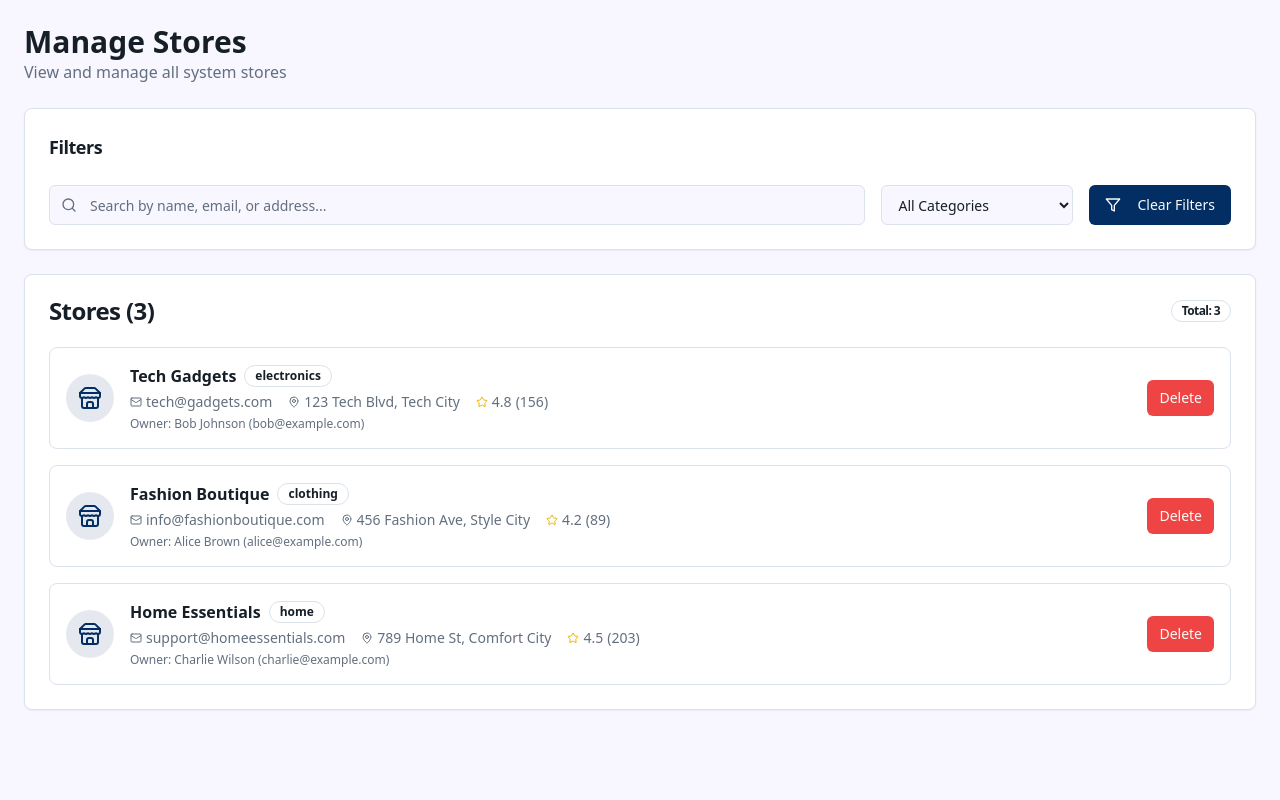
it: AdminStores › should show no results message when no stores match filters
Search for non-existent store
Type "NonExistentStore" into the field with placeholder "Search by name, email, or address...".
click(457, 205); type("NonExistentStore")  # box [49,185,865,225]
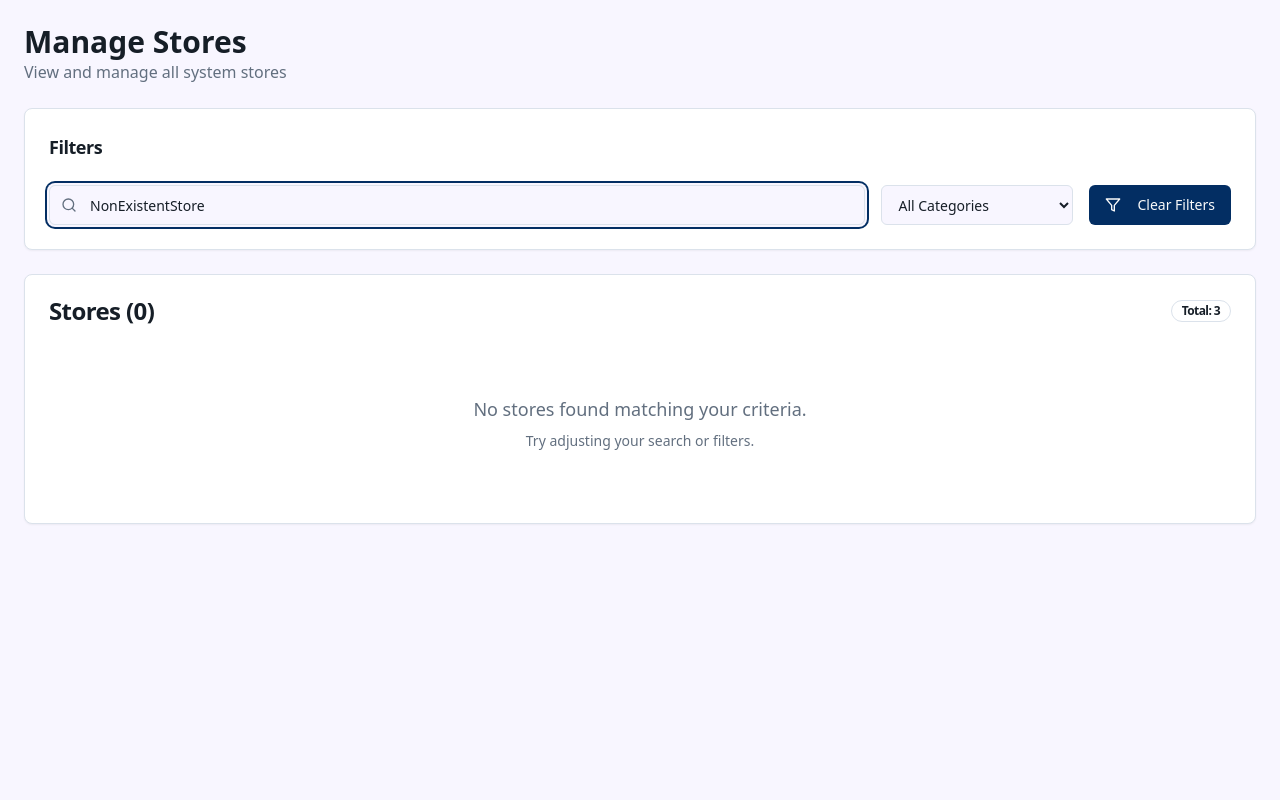
Now the text "No stores found matching your criteria." is shown, box [473,397,807,421]
